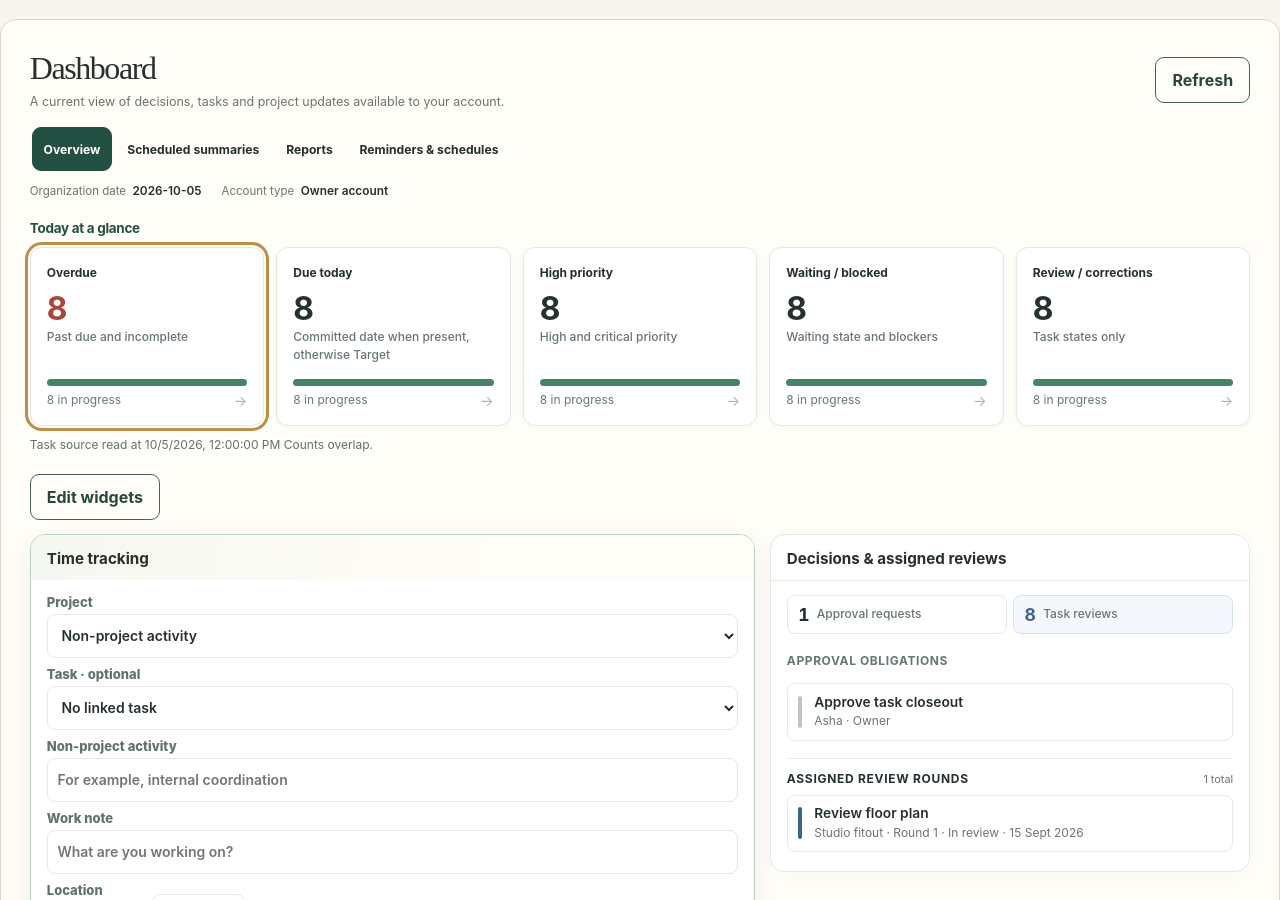
Test: DashboardWorkspace › opens every Overdue source row in a contextual panel without navigating
Expected: the 1st text "8" is shown, [47,289,66,328]
Click the button "Overdue 8 Past due and incomplete 8 in progress →" at (147, 337), box [30,247,264,426]
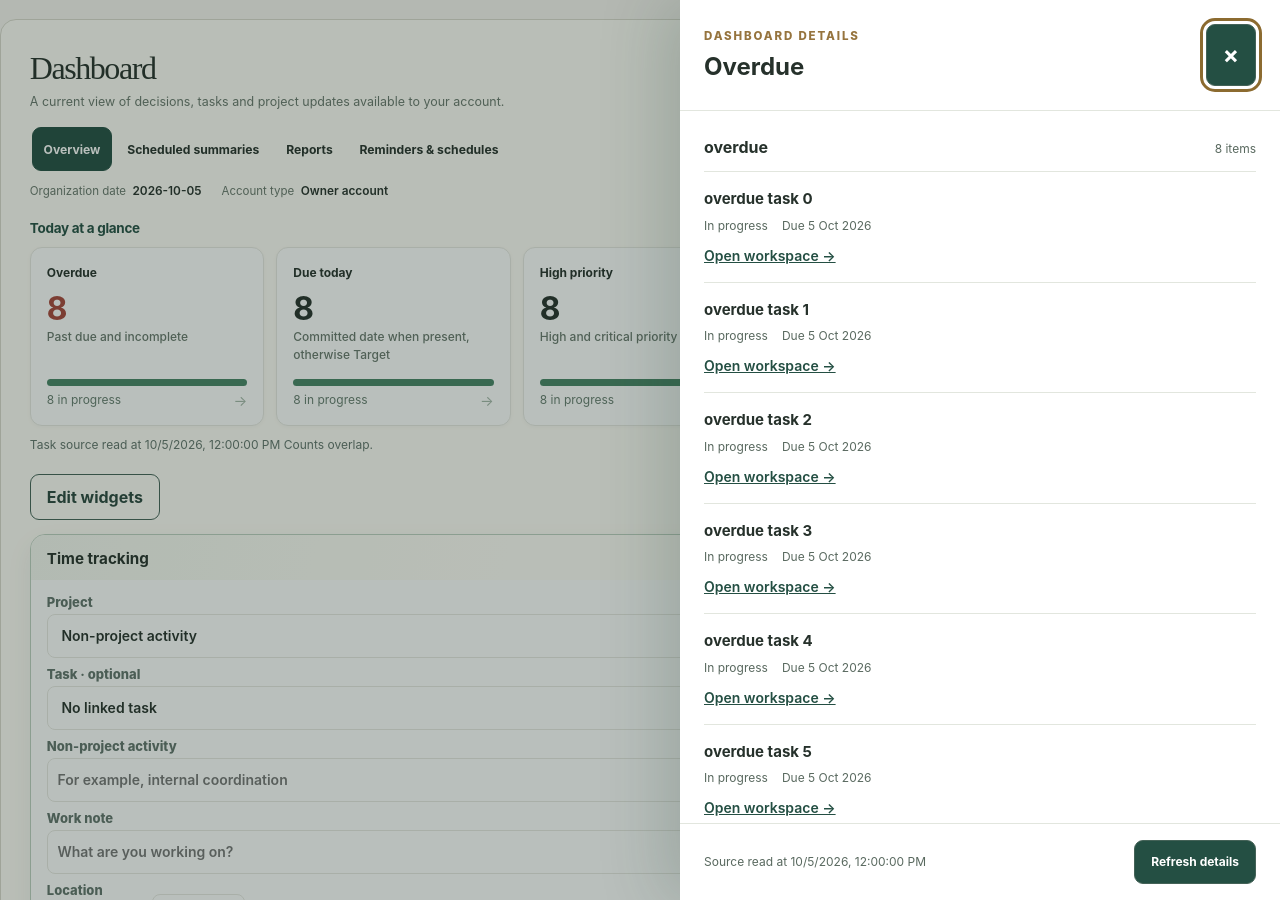
Click the button named "Close dashboard details" at (1231, 55), box [1206,24,1256,86]
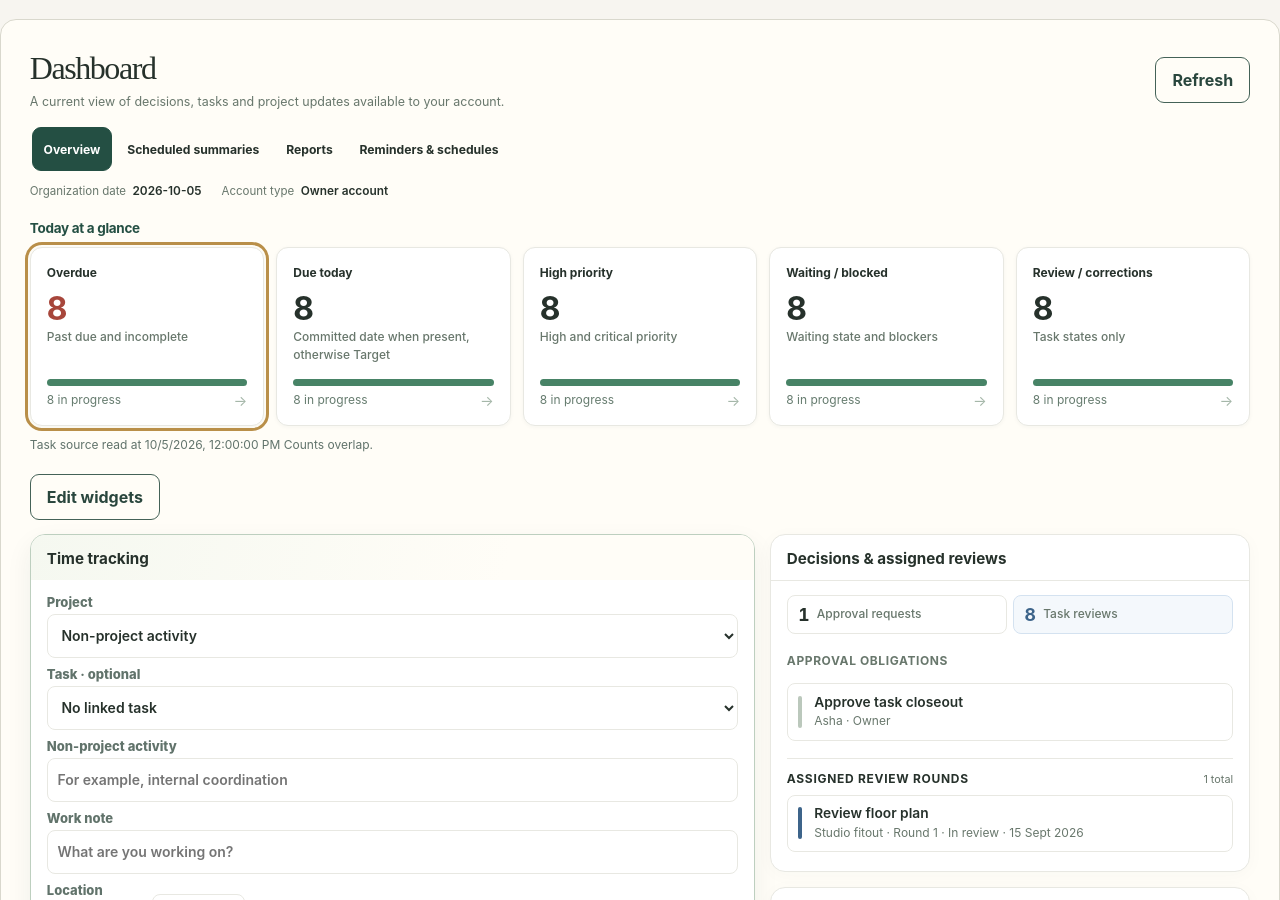
Expected: the heading "Dashboard" is shown, [30,50,156,86]
Result: the dialog is gone
